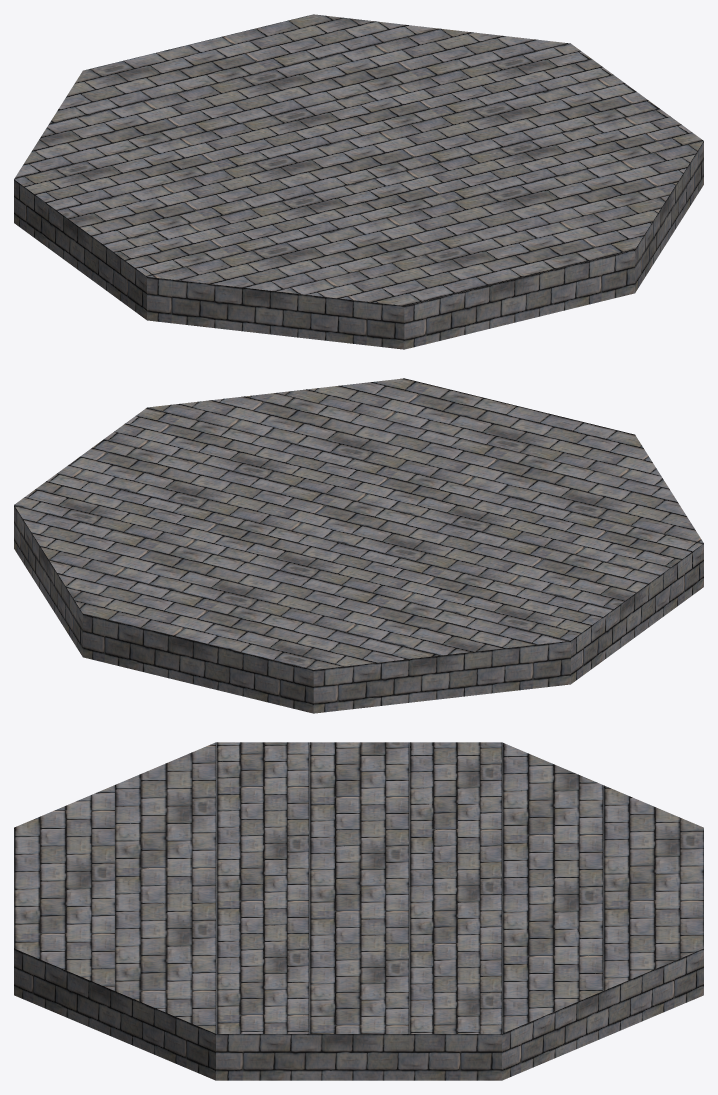
Rendered from sanctum_floor_02.glb.
3 views of the same model, one above another, from view 1: azimuth 30°, elevation 25°; view 2: azimuth 150°, elevation 25°; view 3: azimuth 270°, elevation 25° (orthographic). The views are drawn at different scales.
Visible parts, largest first — view 1: sanctum_floor_02; view 2: sanctum_floor_02; view 3: sanctum_floor_02.
Part boxes in pixels (box(x1,y1,x2,y2)): sanctum_floor_02: box(14, 14, 703, 349); sanctum_floor_02: box(14, 378, 703, 713); sanctum_floor_02: box(14, 742, 703, 1080).
Size of the model in its own units: 40 by 3 by 40.
Materials: 1 (1 with a texture image).
